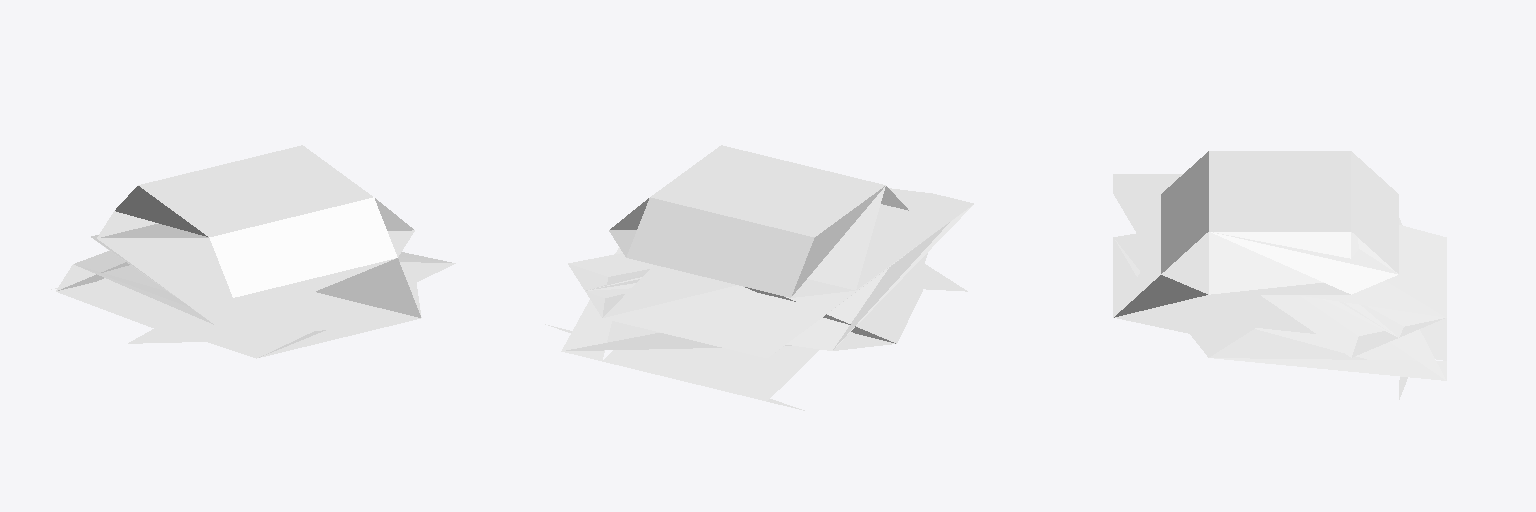
File: Character0_Run1.obj
The picture shows the model from 3 angles: view 1: azimuth 30°, elevation 25°; view 2: azimuth 150°, elevation 25°; view 3: azimuth 270°, elevation 25°; orthographic projection.
Size of the model in its own units: 8 by 3 by 7.